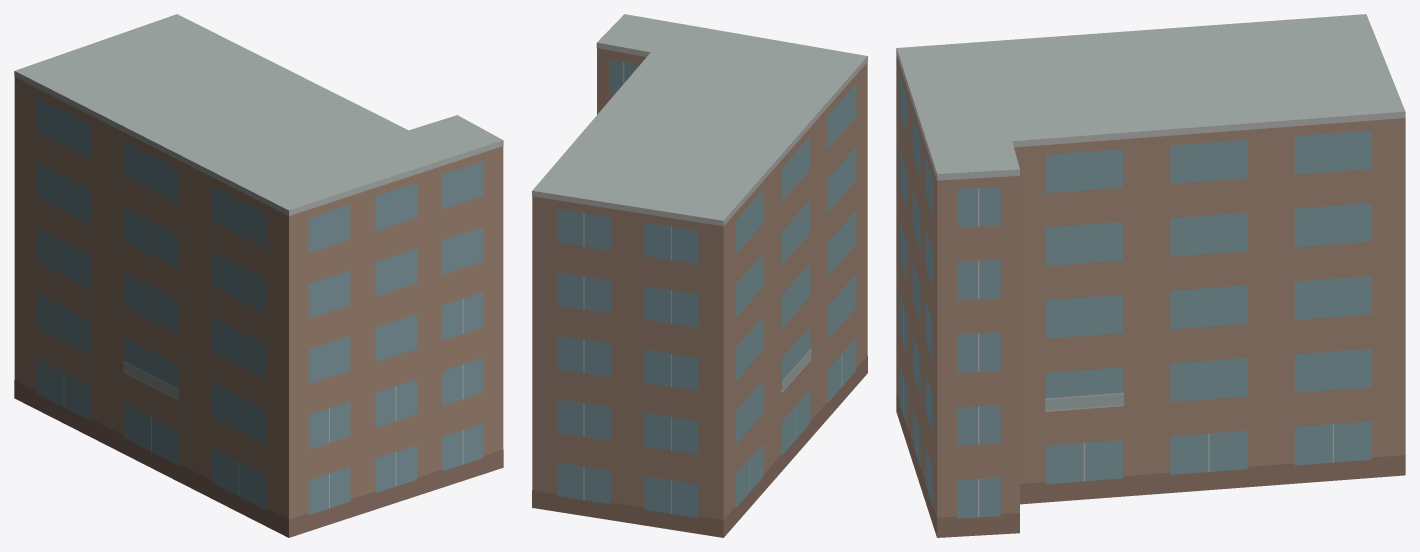
File: survey-upis-32578834.glb
3 renders of one model, left to right at view 1: azimuth 30°, elevation 25°; view 2: azimuth 150°, elevation 25°; view 3: azimuth 270°, elevation 25°, orthographic. The views are drawn at different scales.
Parts seen in each view (by area): view 1: survey-upis-32578834.tmp; view 2: survey-upis-32578834.tmp; view 3: survey-upis-32578834.tmp.
Boxes of the visible parts, x1,y1,x2,y2 form: survey-upis-32578834.tmp: (14, 14, 503, 537); survey-upis-32578834.tmp: (532, 14, 867, 537); survey-upis-32578834.tmp: (896, 14, 1405, 537).
Bounding box in the file's own units: 13.19 × 13.95 × 17.71.
